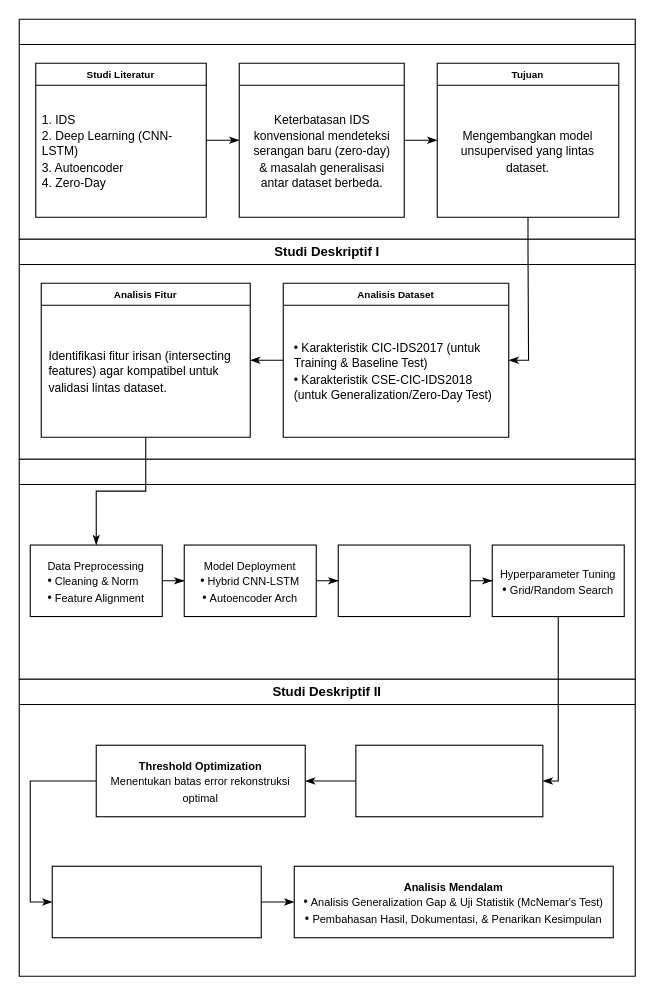
Some shapes in this 655 by 996 pixel diagram are drawn without their labels. The shapes that lost their labels are listed below. From the top down, each one's box as (x1, y1, x2, y2) in pixels, then its label:
(238, 62, 404, 217): Identifikasi Masalah
(18, 18, 635, 239): Klarifikasi Penelitian
(18, 458, 635, 679): Studi Preskriptif
(337, 544, 470, 617): Model Training • Unsupervised (normal only)
(355, 744, 543, 817): Evaluasi Baseline Testing pada CIC-IDS2017 (In-Distribution)
(51, 865, 261, 938): Cross-Dataset Validation Testing pada CSE-CIC-IDS2018 (Zero-Day/OOD)
